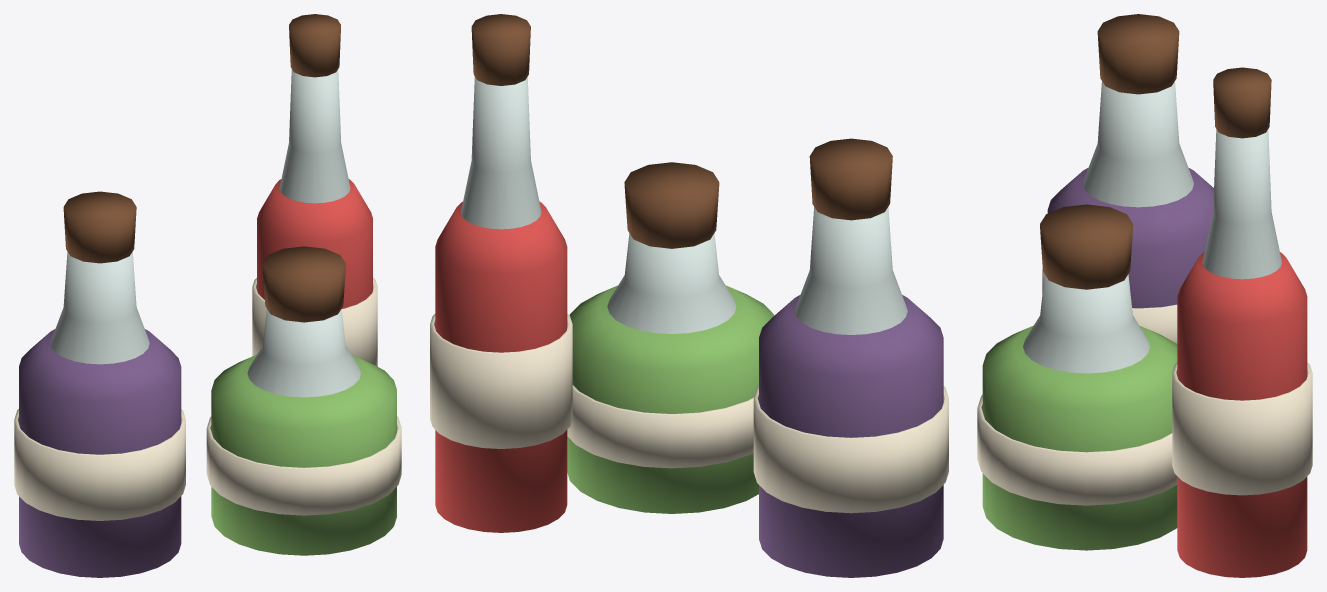
Rendered from potion_bottles.fbx.
3 renders of one model, left to right at view 1: azimuth 30°, elevation 25°; view 2: azimuth 150°, elevation 25°; view 3: azimuth 270°, elevation 25°, orthographic. The views are drawn at different scales.
Visible parts, largest first — view 1: LH_potion_bottles; view 2: LH_potion_bottles; view 3: LH_potion_bottles.
Part boxes in pixels (x1=…): LH_potion_bottles: x1=14, y1=14, x2=401, y2=577; LH_potion_bottles: x1=430, y1=14, x2=948, y2=577; LH_potion_bottles: x1=977, y1=14, x2=1312, y2=577.
Size of the model in its own units: 0.194 by 0.2 by 0.129.
